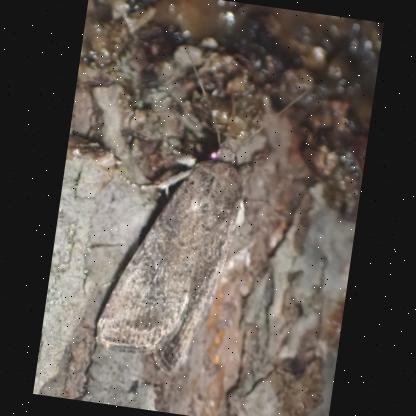Fall Armyworm Moth: (82, 58, 306, 392)
